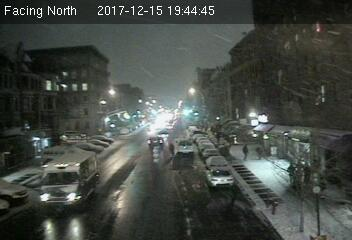car: (208, 166, 237, 188), (146, 135, 164, 149)
pedestrian: (242, 143, 248, 162)
truck: (173, 137, 194, 154)
ups: (40, 151, 100, 212)
